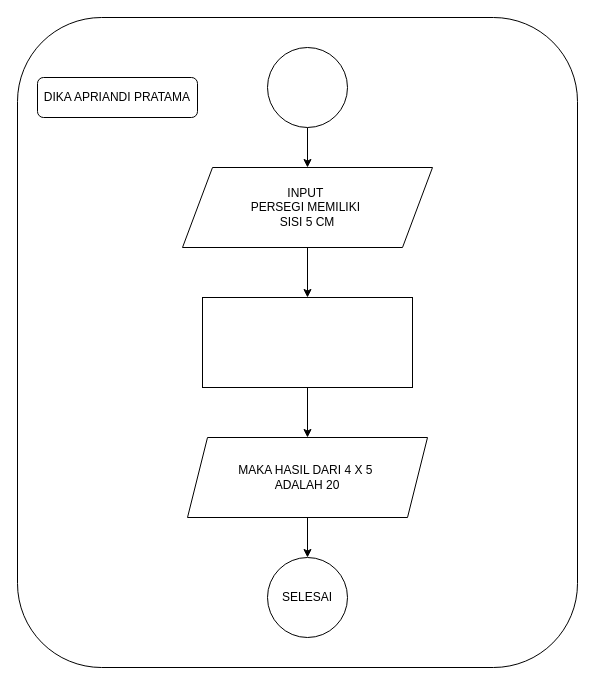
Some shapes in this 595 by 685 pixel diagram are drawn without their labels. Each missing label, with the centre of its shape:
MULAI: the point at 307,87
PROSES MRNGHITUNG KELILING PERSEGI ADALAH KELILING = 4 X 5: the point at 307,342
